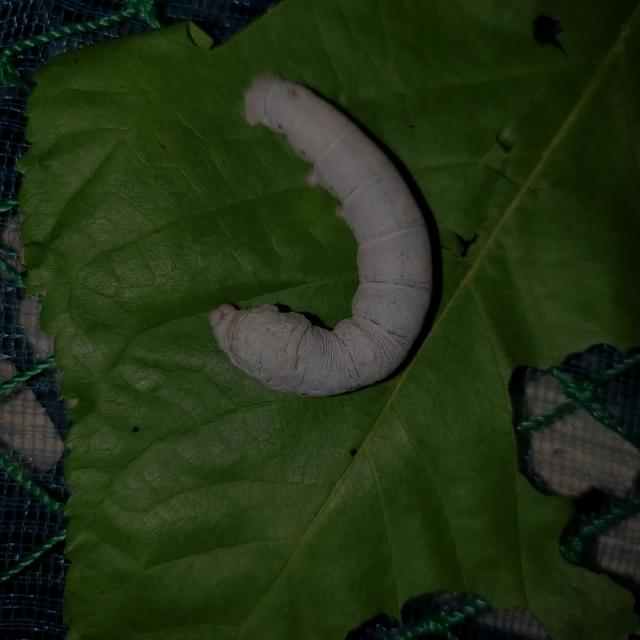Healthy: (203, 64, 440, 400)
